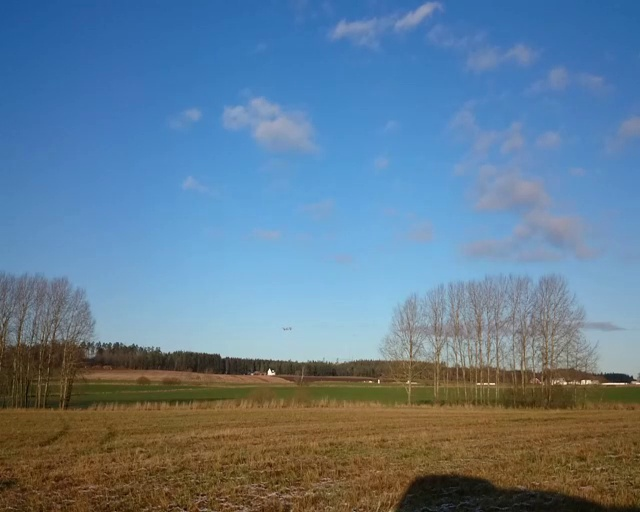DRONE: (282, 323, 293, 330)
